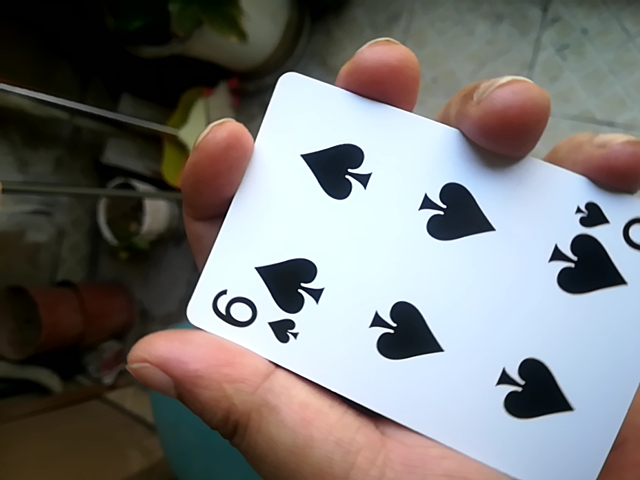ht 6: (175, 71, 637, 480)
